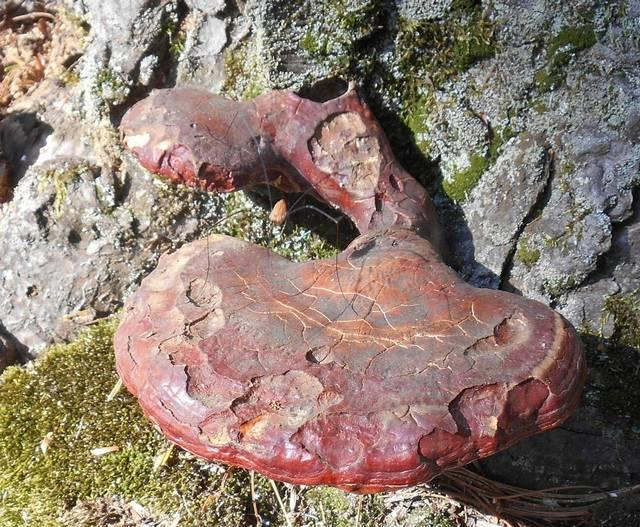Non-edible Mushroom: (110, 77, 588, 494)
